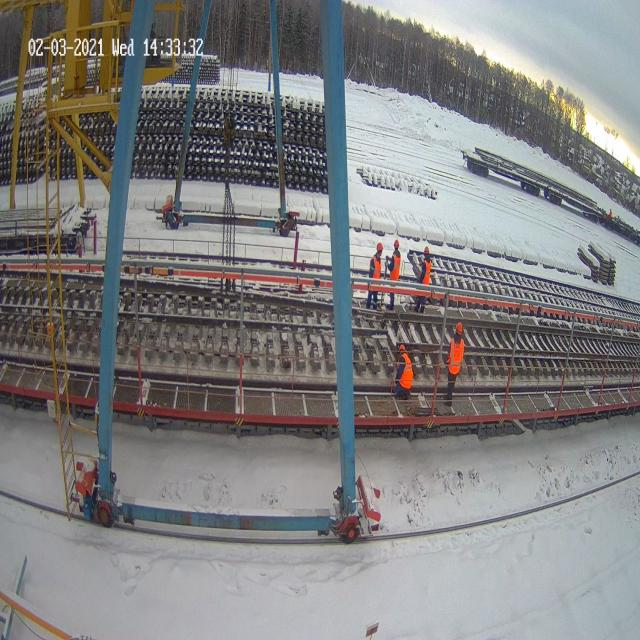Helmet: (456, 322, 462, 334), (398, 344, 405, 353), (377, 242, 382, 252), (424, 246, 429, 254), (394, 239, 398, 247)
Person: (443, 321, 465, 415), (391, 344, 413, 399), (366, 242, 383, 310), (414, 246, 431, 314), (384, 239, 400, 310)
